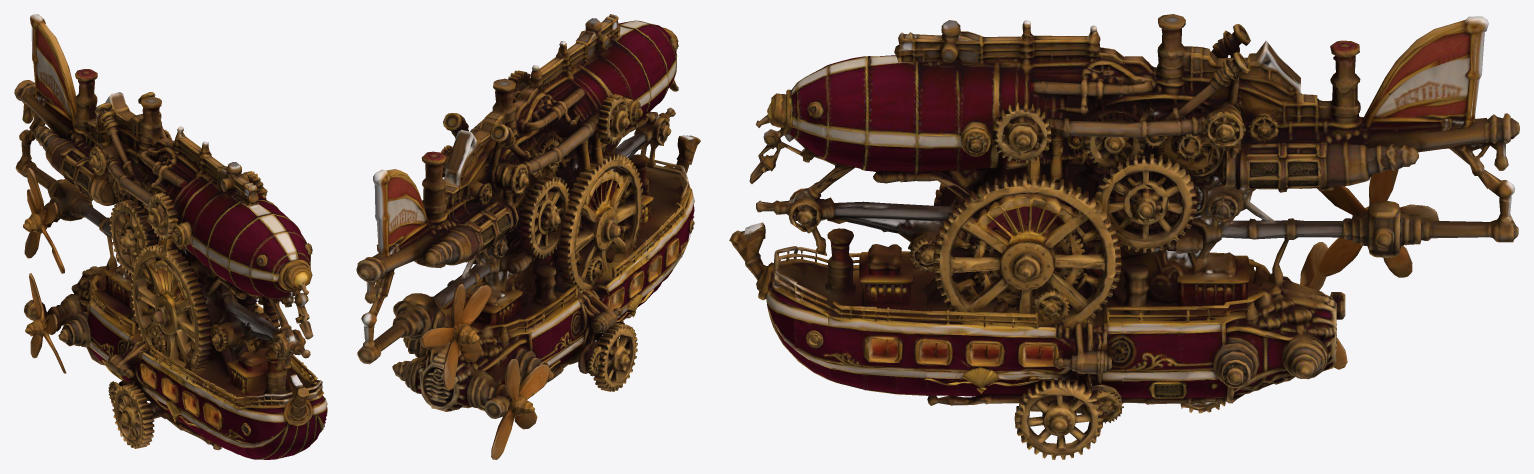
3 renders of one model, left to right at view 1: azimuth 30°, elevation 25°; view 2: azimuth 150°, elevation 25°; view 3: azimuth 270°, elevation 25°, orthographic. The views are drawn at different scales.
Parts seen in each view (by area): view 1: geometry_0; view 2: geometry_0; view 3: geometry_0.
Part boxes in pixels (box(x1,y1,x2,y2)): geometry_0: box(14, 14, 327, 459); geometry_0: box(356, 14, 700, 459); geometry_0: box(729, 14, 1519, 459).
Size of the model in its own units: 0.294 by 0.5577 by 0.9994.
Materials: 1 (1 with a texture image).
